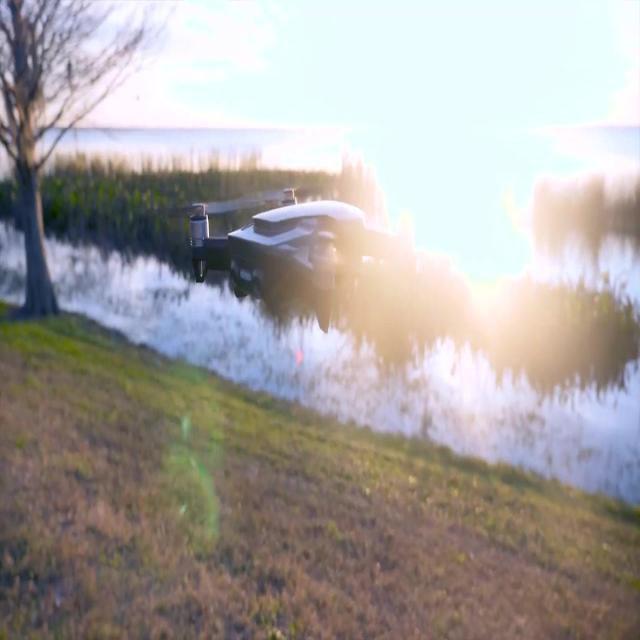drone: (153, 184, 417, 334)
